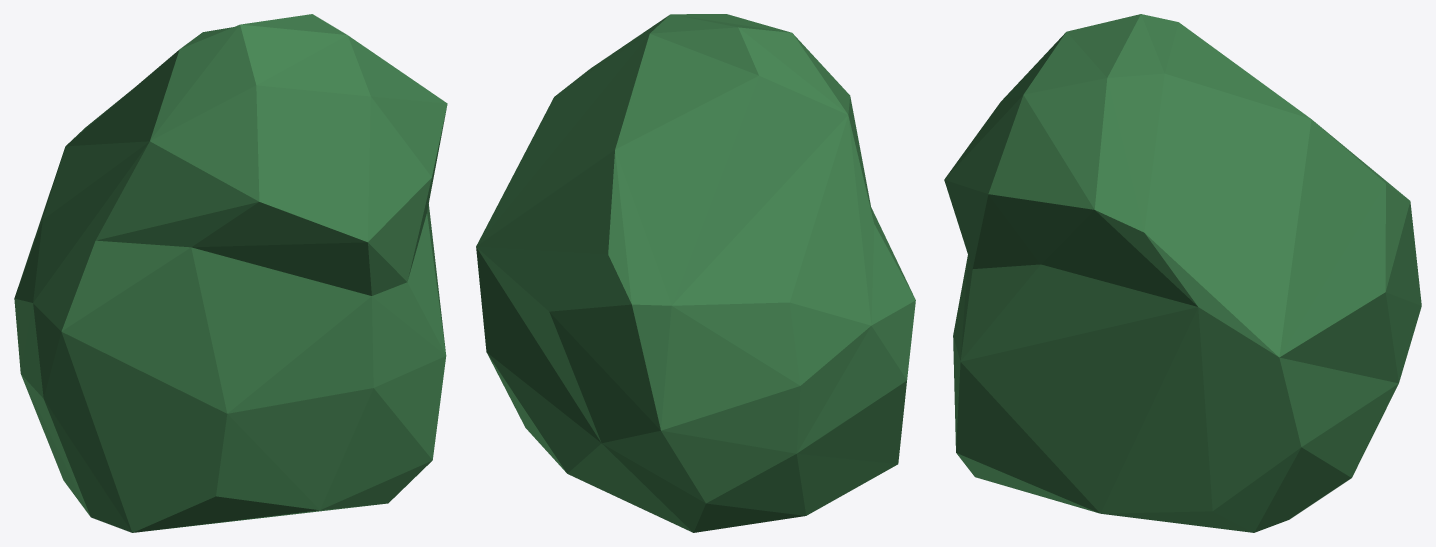
Rendered from SM_Env_Bush_04-optimized.glb.
3 views of the same model, side by side, from view 1: azimuth 30°, elevation 25°; view 2: azimuth 150°, elevation 25°; view 3: azimuth 270°, elevation 25° (orthographic). The views are drawn at different scales.
Parts seen in each view (by area): view 1: SM_Env_Bush_04; view 2: SM_Env_Bush_04; view 3: SM_Env_Bush_04.
Part boxes in pixels (left/top/right/bottom): SM_Env_Bush_04: left=14, top=14, right=447, bottom=532; SM_Env_Bush_04: left=476, top=14, right=915, bottom=532; SM_Env_Bush_04: left=944, top=14, right=1421, bottom=532.
Bounding box in the file's own units: 1.17 × 1.29 × 1.2.
